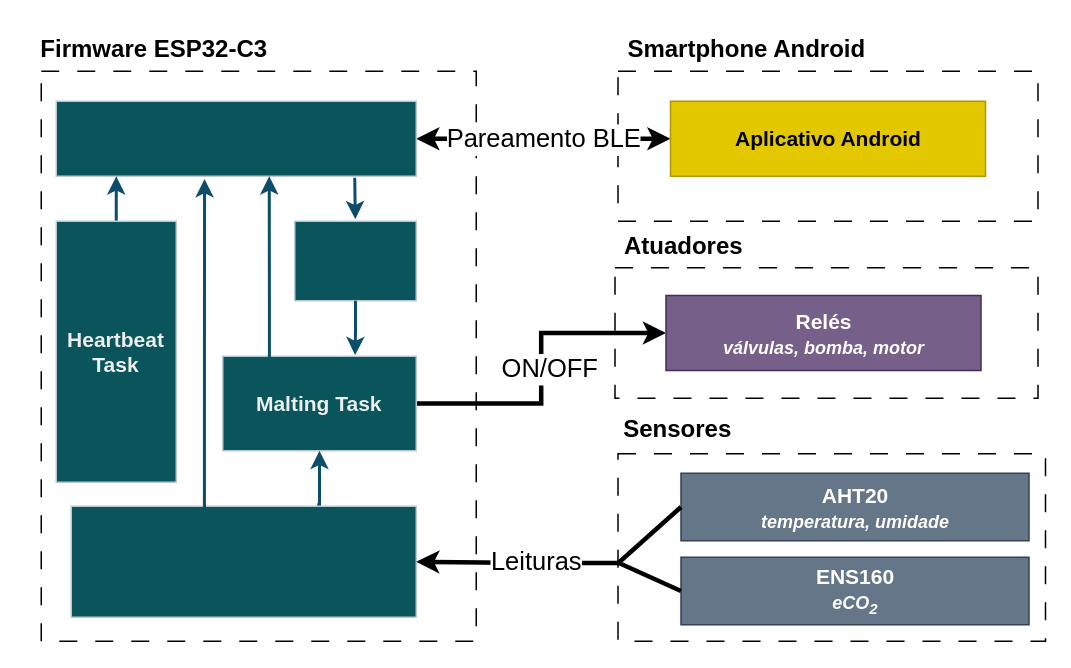
Some shapes in this 1071 by 668 pixel diagram are drawn without their labels. The box of each missing label's shape, as (x1, y1, x2, y2) in pixels:
Peripheral Task: (55, 100, 416, 176)
Read Task: (293, 220, 416, 301)
Sensors Task: (70, 505, 416, 617)
